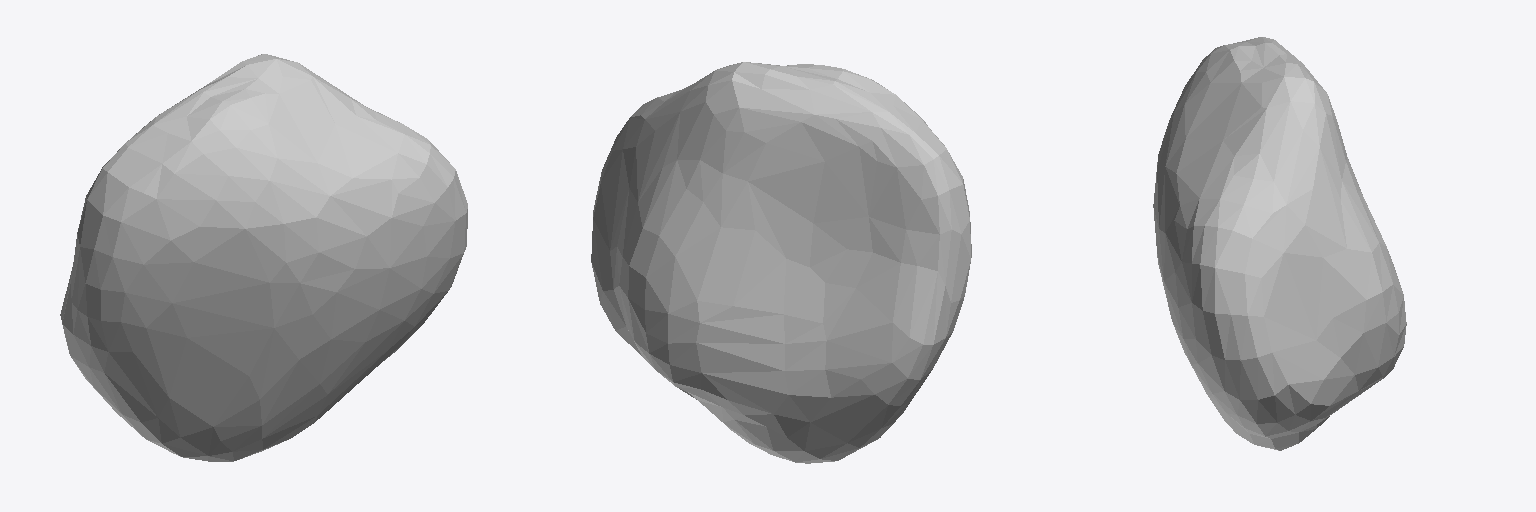
Rendered from knee_rotule_collision.obj.
The picture shows the model from 3 angles: view 1: azimuth 30°, elevation 25°; view 2: azimuth 150°, elevation 25°; view 3: azimuth 270°, elevation 25°; orthographic projection.
Parts seen in each view (by area): view 1: Group9; view 2: Group9; view 3: Group9.
Part boxes in pixels (left/top/right/bottom): Group9: left=60, top=54, right=467, bottom=461; Group9: left=591, top=62, right=971, bottom=463; Group9: left=1153, top=37, right=1406, bottom=450.
Bounding box in the file's own units: 3.01 × 2.93 × 1.77.